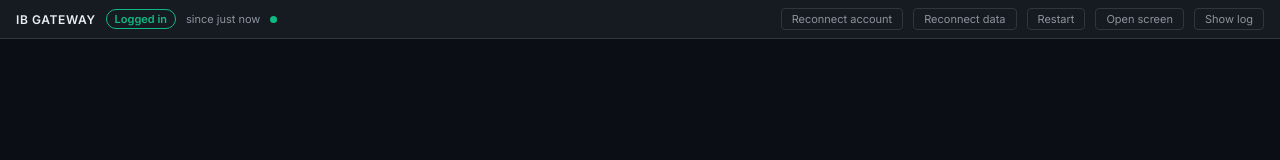
Test: GatewayPanel › cancels restart confirm on No
The width and height of the screenshot is (1280, 160).
Expected: the text "Logged in" is shown, [106, 9, 176, 29]
Step 1. Click the button "Restart" → (1056, 19), box [1026, 8, 1085, 30]
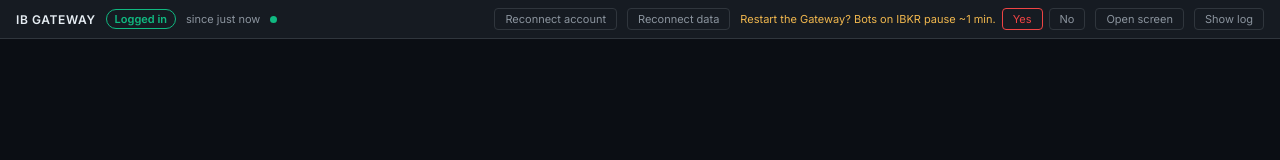
Step 2. Click the button "No" → (1067, 19), box [1048, 8, 1085, 30]
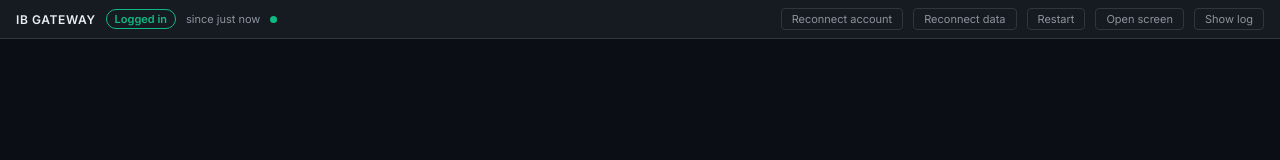
Expected: the text "Restart the Gateway?" is gone
